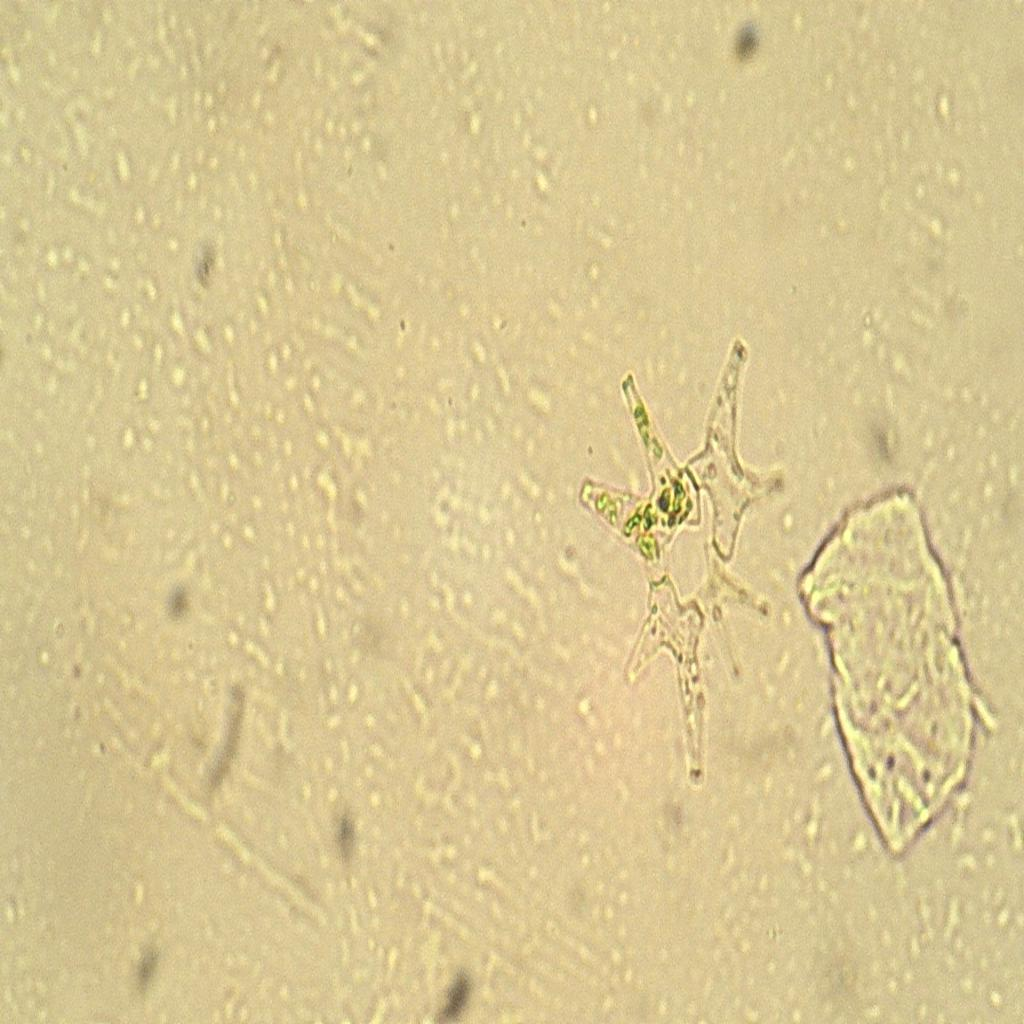Pediastrum_1F0: (554, 292, 813, 821)
